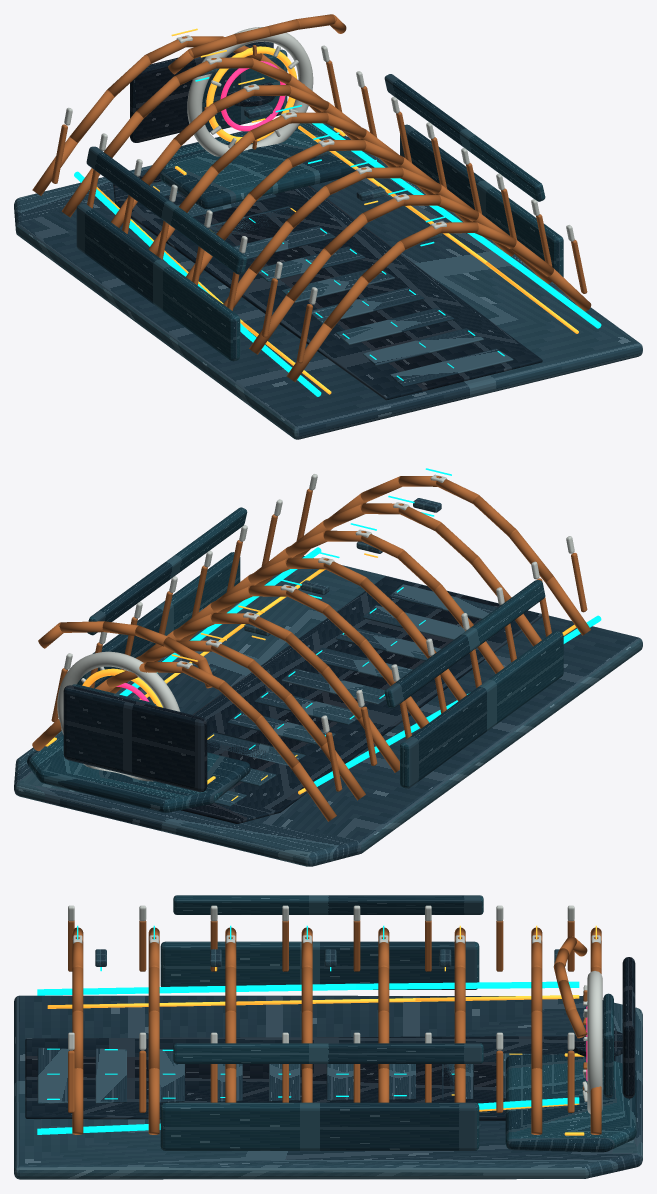
Rendered from pulseReactorEncounterWorld.9723eba7.glb.
The picture shows the model from 3 angles, top to bottom: view 1: azimuth 30°, elevation 25°; view 2: azimuth 150°, elevation 25°; view 3: azimuth 270°, elevation 25°; orthographic projection.
Parts seen in each view (by area): view 1: V11 continuous chamfered reactor deck, V11 recessed exchange runway, V11 lower containment wall -1, V11 terminal raised command dock, V11 lower containment wall 1, V11 upper containment shoulder -1, V11 terminal full shadow bulkhead, V11 upper containment shoulder 1, V11 terminal outer mechanical iris, V11 terminal layered armored backwall, V11 runway inset plate 0, V11 runway inset plate 1 (+15 smaller); view 2: V11 continuous chamfered reactor deck, V11 recessed exchange runway, V11 terminal full shadow bulkhead, V11 lower containment wall -1, V11 terminal raised command dock, V11 upper containment shoulder -1, V11 lower containment wall 1, V11 upper containment shoulder 1, V11 terminal outer mechanical iris, V11 runway inset plate 0, V11 runway inset plate 4, V11 runway inset plate 7 (+23 smaller); view 3: V11 continuous chamfered reactor deck, V11 lower containment wall 1, V11 recessed exchange runway, V11 lower containment wall -1, V11 terminal raised command dock, V11 upper containment shoulder 1, V11 upper containment shoulder -1, V11 terminal outer mechanical iris, V11 terminal full shadow bulkhead, V11 runway inset plate 1, V11 runway inset plate 0, V11 longitudinal cyan service artery -1 segment 2 (+41 smaller).
Boxes of the visible parts, left/top/right/bottom form: V11 continuous chamfered reactor deck: left=14, top=136, right=642, bottom=439; V11 recessed exchange runway: left=113, top=173, right=542, bottom=400; V11 lower containment wall -1: left=76, top=203, right=240, bottom=361; V11 terminal raised command dock: left=160, top=123, right=373, bottom=208; V11 lower containment wall 1: left=400, top=124, right=563, bottom=277; V11 upper containment shoulder -1: left=86, top=146, right=247, bottom=274; V11 terminal full shadow bulkhead: left=130, top=41, right=273, bottom=142; V11 upper containment shoulder 1: left=384, top=74, right=545, bottom=201; V11 terminal outer mechanical iris: left=187, top=27, right=313, bottom=156; V11 terminal layered armored backwall: left=202, top=49, right=287, bottom=132; V11 runway inset plate 0: left=390, top=348, right=513, bottom=387; V11 runway inset plate 1: left=363, top=328, right=483, bottom=366; V11 continuous chamfered reactor deck: left=14, top=556, right=642, bottom=866; V11 recessed exchange runway: left=181, top=576, right=542, bottom=823; V11 terminal full shadow bulkhead: left=63, top=685, right=207, bottom=792; V11 lower containment wall -1: left=400, top=631, right=563, bottom=788; V11 terminal raised command dock: left=27, top=734, right=250, bottom=812; V11 upper containment shoulder -1: left=384, top=580, right=545, bottom=707; V11 lower containment wall 1: left=77, top=552, right=240, bottom=688; V11 upper containment shoulder 1: left=87, top=507, right=247, bottom=635; V11 terminal outer mechanical iris: left=57, top=651, right=180, bottom=781; V11 runway inset plate 0: left=390, top=584, right=497, bottom=619; V11 runway inset plate 4: left=281, top=668, right=385, bottom=704; V11 runway inset plate 7: left=207, top=731, right=305, bottom=765; V11 continuous chamfered reactor deck: left=14, top=995, right=642, bottom=1179; V11 lower containment wall 1: left=160, top=1102, right=479, bottom=1150; V11 recessed exchange runway: left=25, top=1036, right=615, bottom=1120; V11 lower containment wall -1: left=160, top=941, right=479, bottom=989; V11 terminal raised command dock: left=505, top=1054, right=636, bottom=1152; V11 upper containment shoulder 1: left=173, top=1043, right=483, bottom=1063; V11 upper containment shoulder -1: left=173, top=895, right=483, bottom=914; V11 terminal outer mechanical iris: left=587, top=971, right=602, bottom=1113; V11 terminal full shadow bulkhead: left=622, top=957, right=635, bottom=1098; V11 runway inset plate 1: left=95, top=1048, right=126, bottom=1103; V11 runway inset plate 0: left=37, top=1048, right=69, bottom=1104; V11 longitudinal cyan service artery -1 segment 2: left=356, top=981, right=579, bottom=989.
Bounding box in the file's own units: 9.7 × 4.28 × 14.8.
8 materials, 3 textured.
